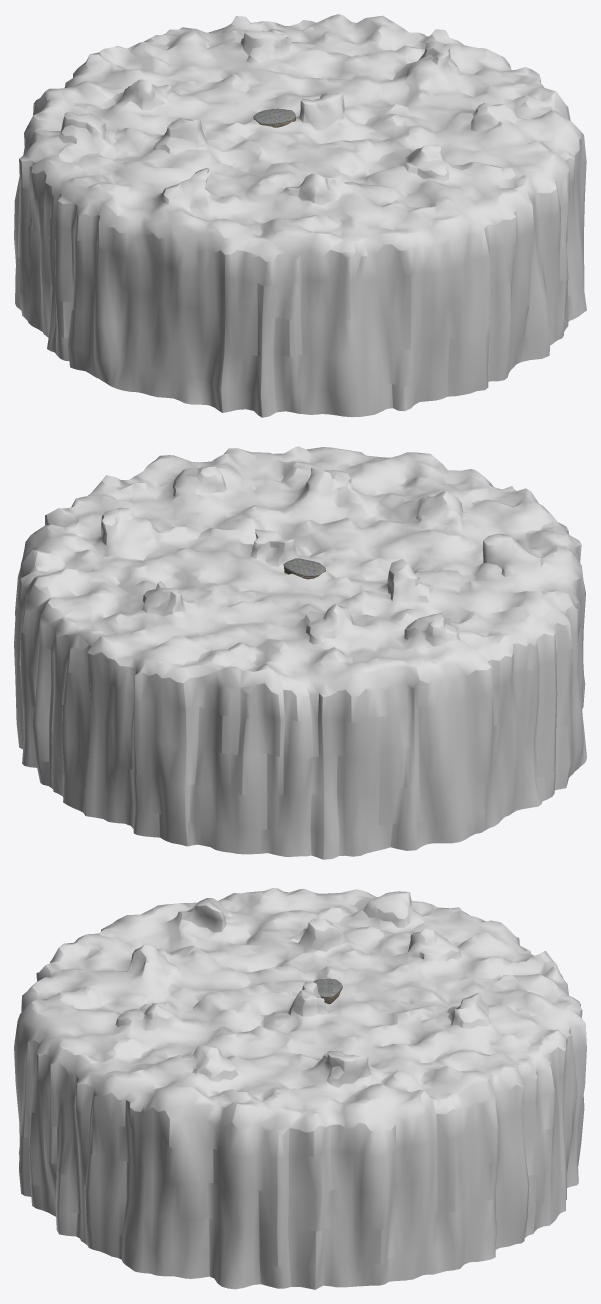
The model's file is berg_4.fbx.
3 views of the same model, one above another, from view 1: azimuth 30°, elevation 25°; view 2: azimuth 150°, elevation 25°; view 3: azimuth 270°, elevation 25° (orthographic). The views are drawn at different scales.
Parts seen in each view (by area): view 1: Hexgrid, Steinblock3; view 2: Hexgrid, Steinblock3; view 3: Hexgrid, Steinblock3.
Part boxes in pixels (box(x1,y1,x2,y2)): Hexgrid: box(14, 14, 586, 417); Steinblock3: box(253, 108, 295, 127); Hexgrid: box(14, 446, 586, 859); Steinblock3: box(283, 558, 325, 579); Hexgrid: box(14, 888, 586, 1289); Steinblock3: box(313, 978, 342, 1004).
Size of the model in its own units: 6395 by 2499 by 6444.
